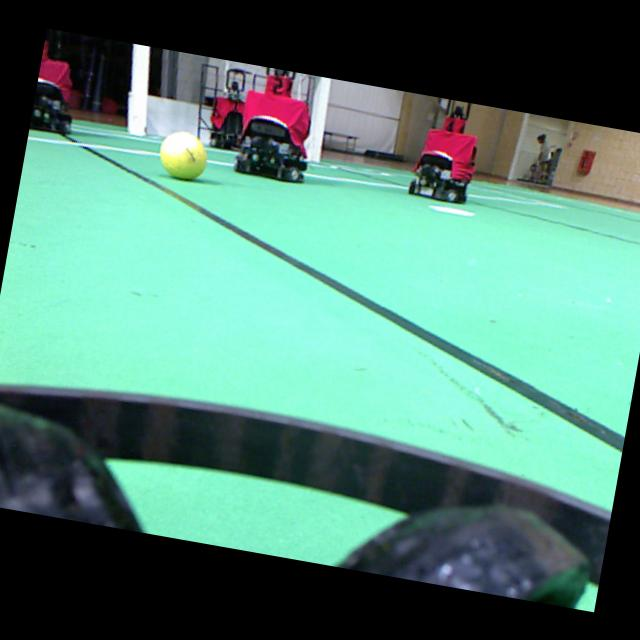ball: (159, 131, 206, 178)
goal: (303, 76, 330, 161), (127, 43, 149, 134)
